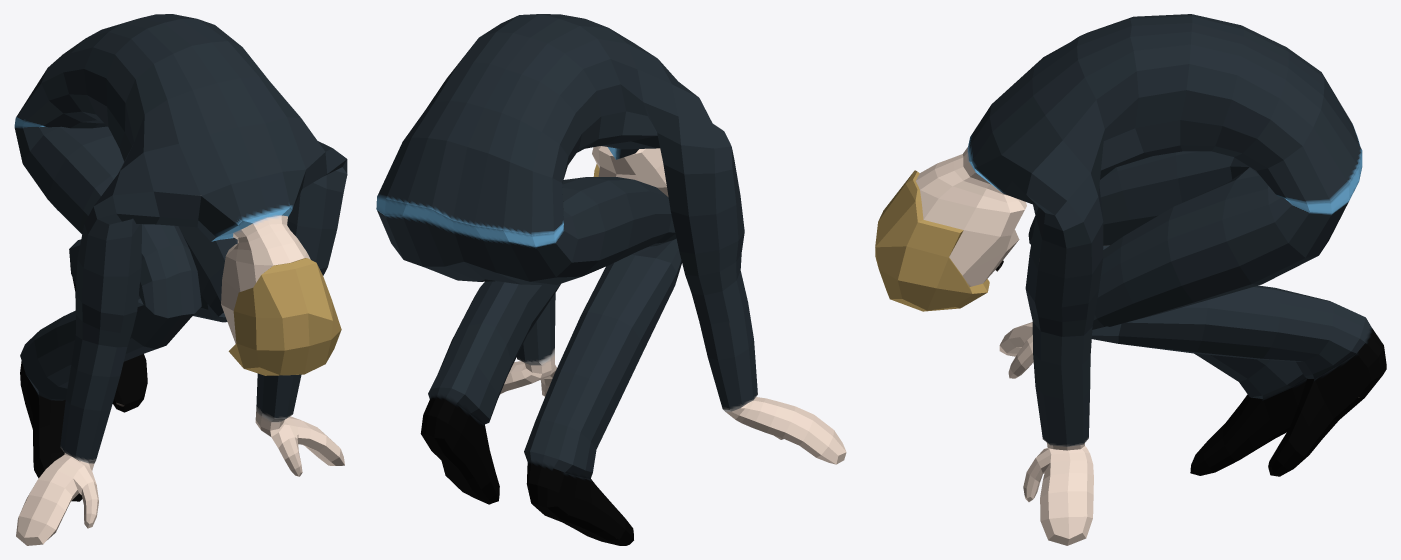
File: PT_char_001.fbx
The picture shows the model from 3 angles, left to right: view 1: azimuth 30°, elevation 25°; view 2: azimuth 150°, elevation 25°; view 3: azimuth 270°, elevation 25°; orthographic projection. The views are drawn at different scales.
Parts seen in each view (by area): view 1: Box003; view 2: Box003; view 3: Box003.
Boxes of the visible parts, x1,y1,x2,y2 form: Box003: [14, 14, 347, 545]; Box003: [376, 14, 846, 545]; Box003: [875, 14, 1386, 545].
Size of the model in its own units: 6.98 by 8.93 by 8.33.
1 material, 1 textured.
